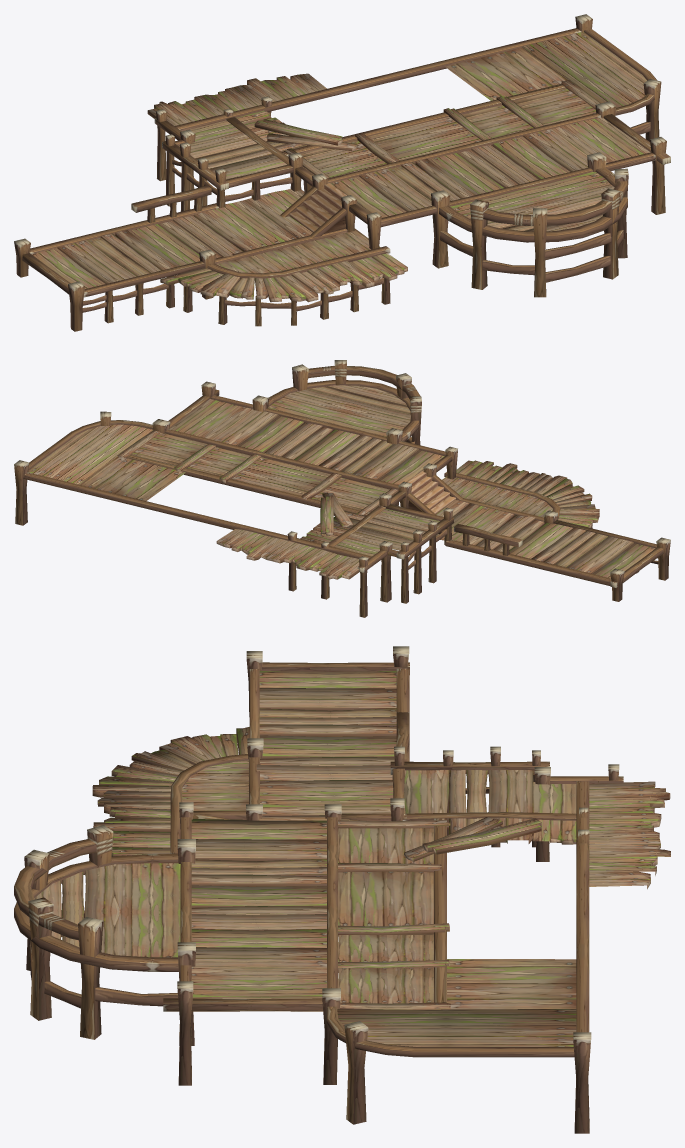
The model's file is Map_06_wharf01.FBX.
The picture shows the model from 3 angles, top to bottom: view 1: azimuth 30°, elevation 25°; view 2: azimuth 150°, elevation 25°; view 3: azimuth 270°, elevation 25°; orthographic projection. The views are drawn at different scales.
Visible parts, largest first — view 1: Map_06_wharf01; view 2: Map_06_wharf01; view 3: Map_06_wharf01.
Boxes of the visible parts, left/top/right/bottom form: Map_06_wharf01: left=14, top=14, right=670, bottom=331; Map_06_wharf01: left=14, top=360, right=670, bottom=617; Map_06_wharf01: left=14, top=646, right=670, bottom=1133.
Bounding box in the file's own units: 5249 × 3447 × 658.
